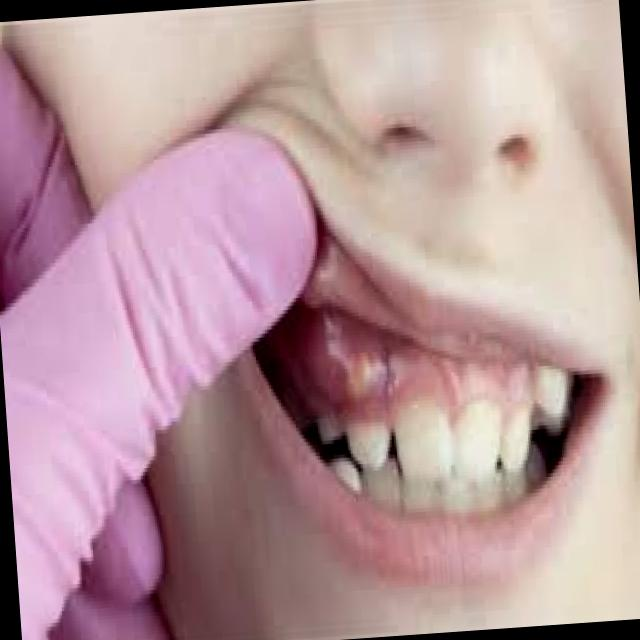abscess: (301, 316, 386, 415)
